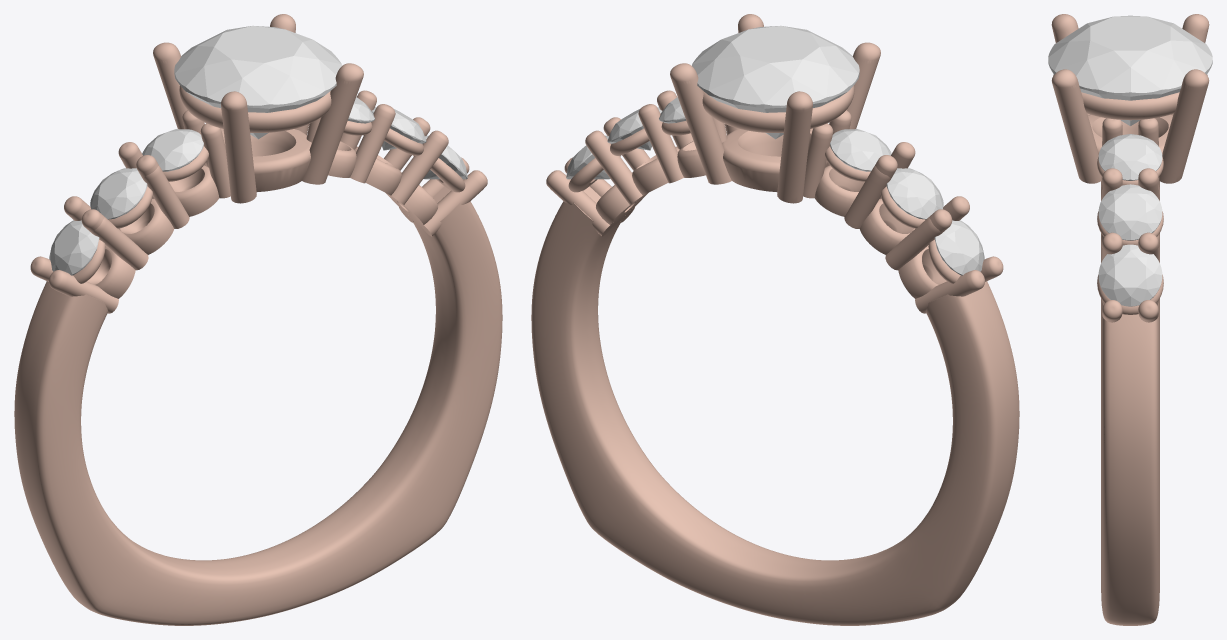
The model's file is diamond-round-rosegold-4prong-europeanshank-3stone.glb.
3 views of the same model, side by side, from view 1: azimuth 30°, elevation 25°; view 2: azimuth 150°, elevation 25°; view 3: azimuth 270°, elevation 25° (orthographic). The views are drawn at different scales.
Visible parts, largest first — view 1: metal, stone, side.001, side.002, side, side.004; view 2: metal, stone, side.001, side.002, side, side.004; view 3: metal, stone, side.005, side.004, side.003.
Part boxes in pixels (x1,y1,x2,y2): metal: [14, 14, 502, 625]; stone: [174, 25, 341, 139]; side.001: [90, 168, 147, 219]; side.002: [49, 220, 99, 275]; side: [142, 129, 203, 171]; side.004: [371, 107, 426, 150]; metal: [531, 14, 1019, 625]; stone: [692, 25, 859, 139]; side.001: [886, 168, 943, 219]; side.002: [934, 220, 984, 275]; side: [830, 129, 891, 171]; side.004: [607, 107, 662, 150]; metal: [1051, 14, 1209, 625]; stone: [1048, 15, 1212, 125]; side.005: [1098, 244, 1162, 306]; side.004: [1098, 184, 1162, 240]; side.003: [1098, 134, 1162, 180].
Size of the model in its own units: 20.71 by 23.81 by 6.44.
